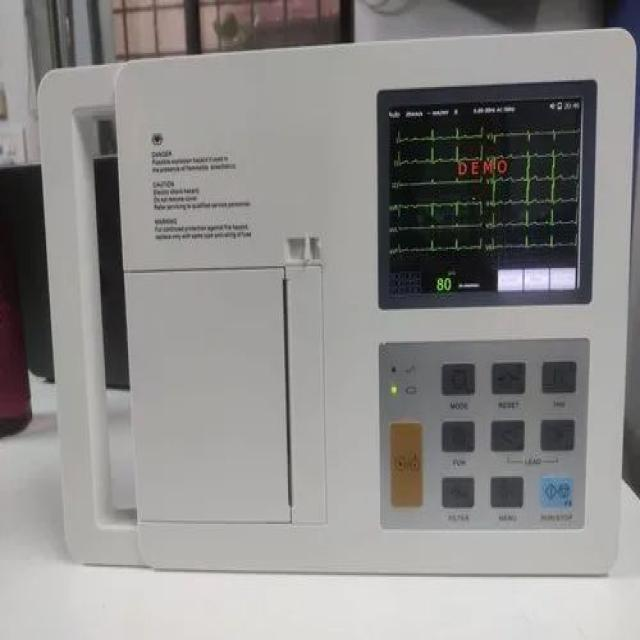Monitor: (35, 22, 638, 579)
